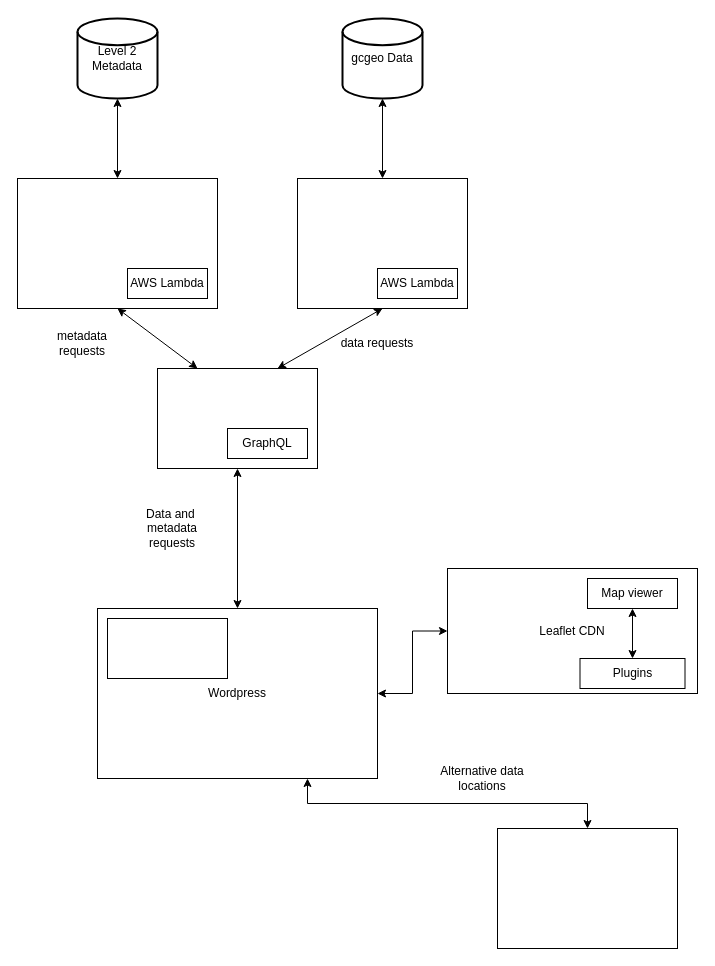
The diagram is 715 pixels wide and 966 high, and some of its shapes have lost their labels. The box of each missing label's shape, as (x1, y1, x2, y2) in pixels:
API controller: (156, 368, 318, 468)
External Data Locations: (496, 828, 678, 948)
gcgeo Data API: (296, 178, 468, 308)
Metadata API: (16, 178, 218, 308)
UI page filter: (106, 618, 228, 678)
